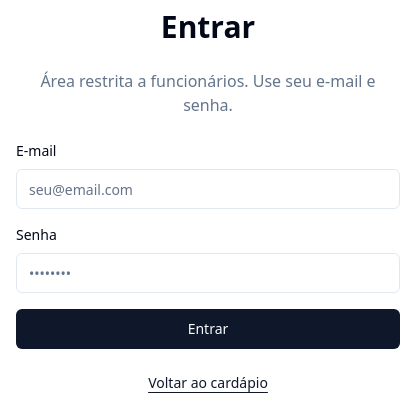
Test: Admin Login Page (Employee Auth) › login form (brief: Portuguese UI, validation) › keeps submit disabled while login request is pending (bugfix UX: prevent double submit)
In the field with placeholder "seu@email.com": coordinates (208, 189) [16,169,400,209], type "emp@burger.com"
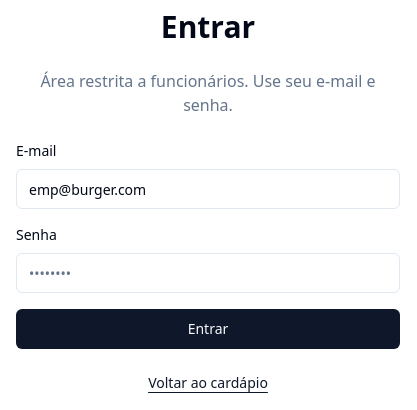
In the password field with placeholder "••••••••": coordinates (208, 273) [16,253,400,293], type "validpassword"
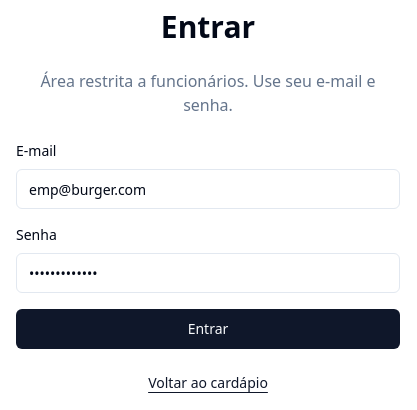
Submit the form with placeholder "seu@email.com", box [16,141,400,349]
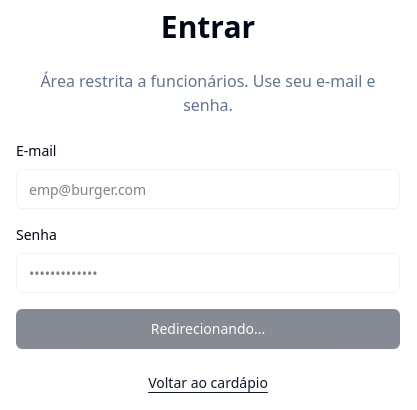
Expected: the button "Redirecionando..." is disabled, [16,309,400,349]
